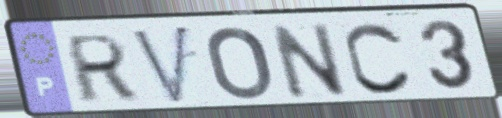3: (417, 18, 477, 93)
C: (342, 19, 416, 97)
N: (266, 20, 351, 101)
O: (203, 24, 276, 103)
R: (64, 31, 140, 107)
V: (127, 22, 193, 109)
